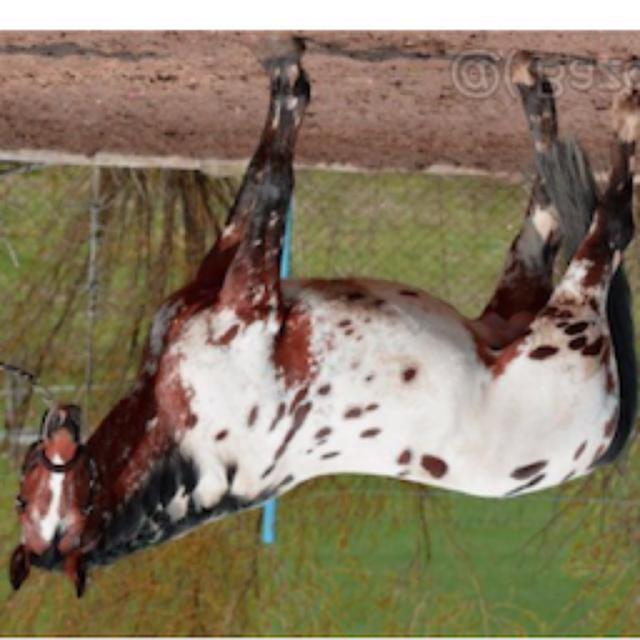Horse: (0, 38, 638, 602)
